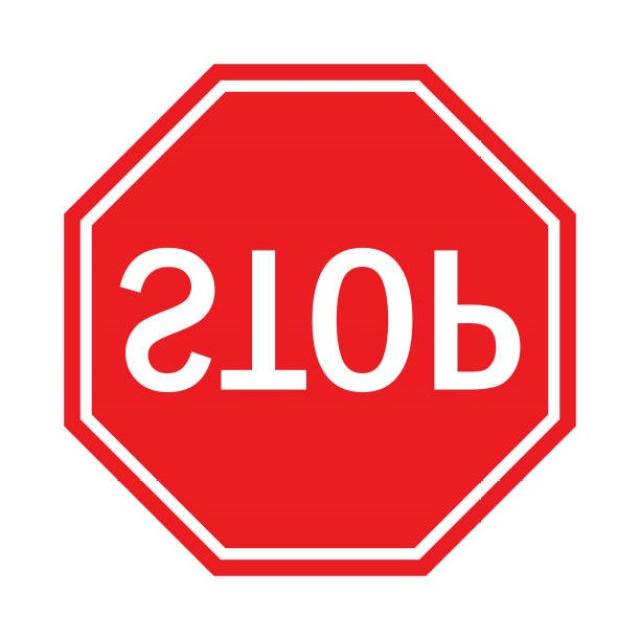Traffic sign: (51, 45, 586, 597)
